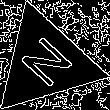N_SE: (13, 31, 78, 94)
